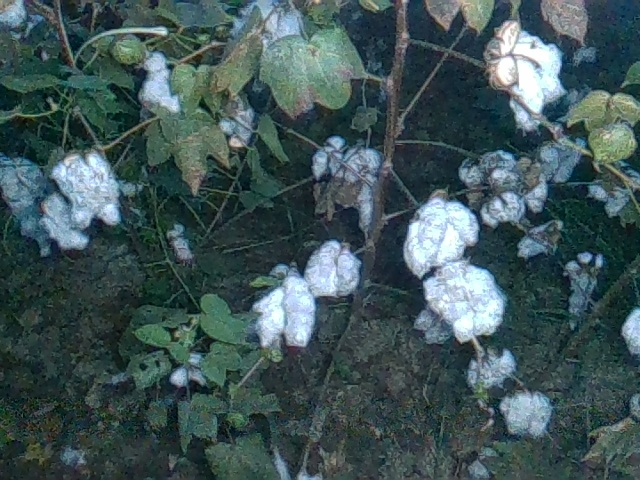cotton: (480, 21, 574, 136), (309, 131, 388, 241), (456, 144, 551, 234), (244, 258, 315, 366), (417, 261, 511, 340), (393, 194, 482, 272), (51, 141, 131, 227), (1, 144, 54, 261), (302, 234, 363, 305), (561, 249, 607, 339), (582, 157, 640, 226), (40, 190, 96, 253), (501, 388, 556, 442), (511, 211, 570, 261), (139, 51, 183, 114), (463, 345, 517, 394), (535, 133, 587, 180), (167, 350, 213, 392), (621, 302, 640, 354)
